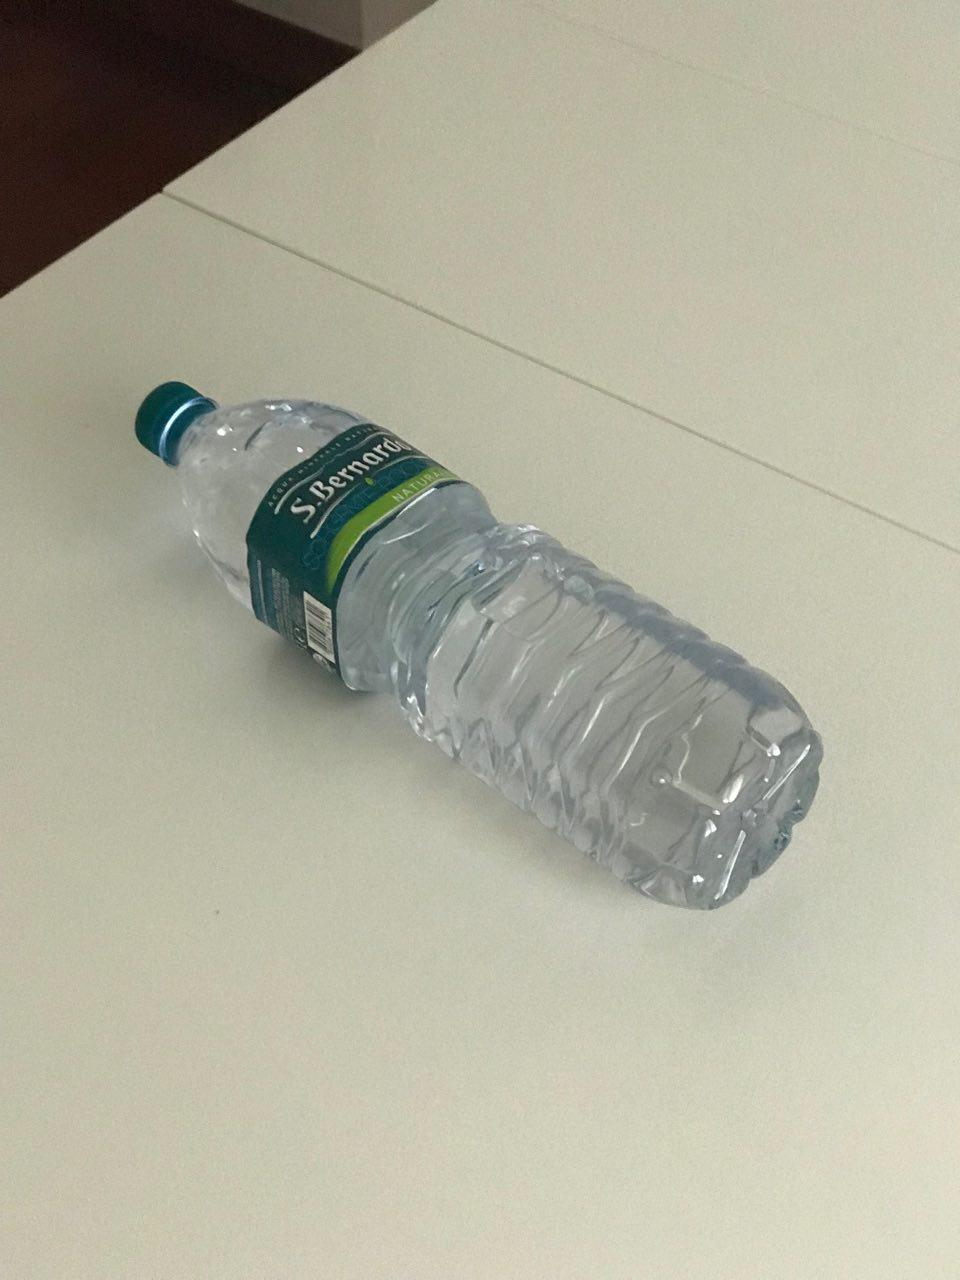san_bernardo: (134, 380, 824, 910)
